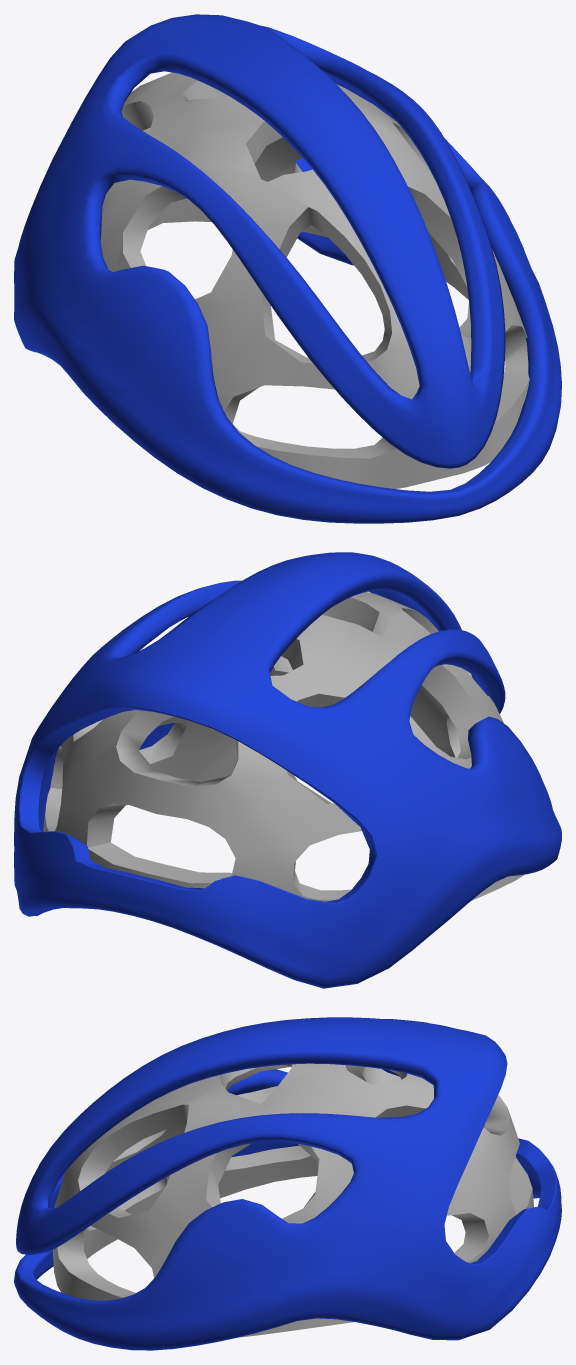
The model's file is cycling_helmet.glb.
3 views of the same model, one above another, from view 1: azimuth 30°, elevation 25°; view 2: azimuth 150°, elevation 25°; view 3: azimuth 270°, elevation 25° (orthographic). The views are drawn at different scales.
Visible parts, largest first — view 1: Retopo_Sphere.002, Retopo_Circle; view 2: Retopo_Sphere.002, Retopo_Circle; view 3: Retopo_Sphere.002, Retopo_Circle.
Boxes of the visible parts, <box> form: Retopo_Sphere.002: <box>14,14,561,523</box>; Retopo_Circle: <box>100,72,529,488</box>; Retopo_Sphere.002: <box>14,552,561,988</box>; Retopo_Circle: <box>43,592,524,901</box>; Retopo_Sphere.002: <box>14,1017,561,1350</box>; Retopo_Circle: <box>52,1063,533,1337</box>.
Size of the model in its own units: 2.78 by 1.89 by 3.54.
